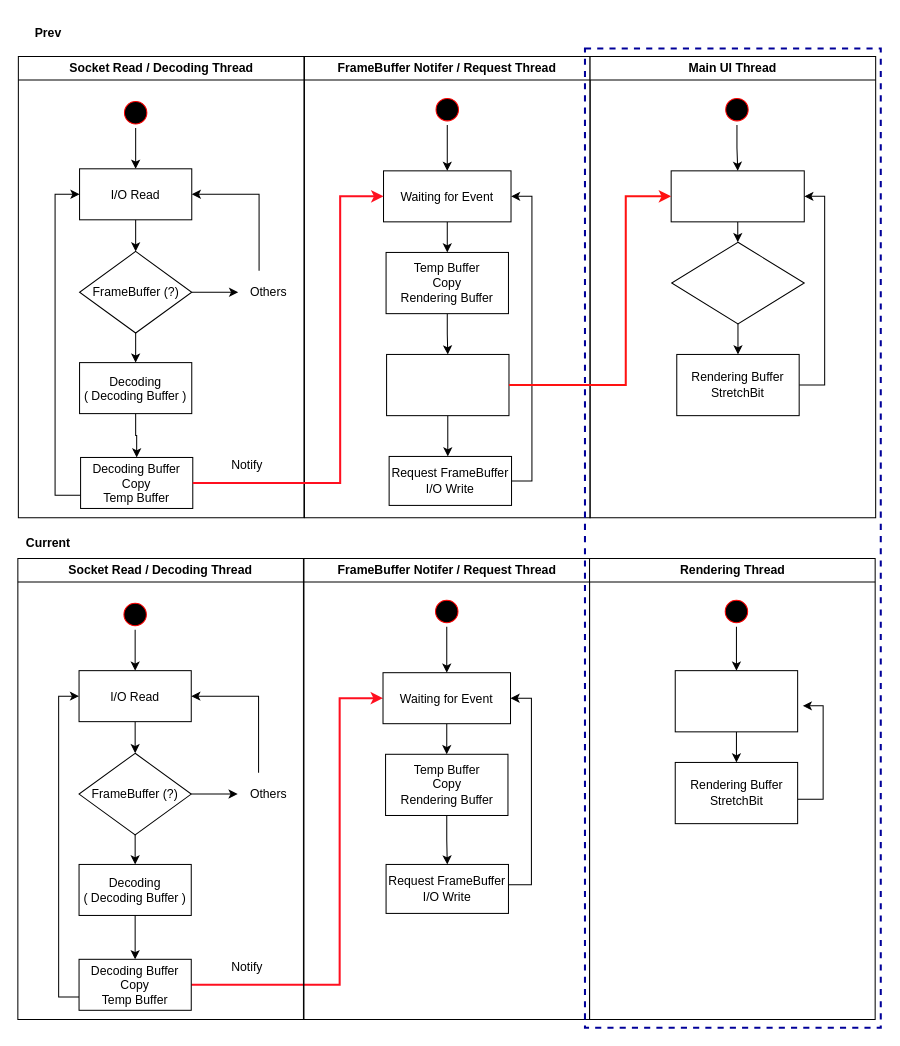
This 900x1046 diagram has some shape labels left out. The centre of each missing label's shape, as x and y in pixels:
"Checking HWND Aspect Ratio" belongs at [736,701].
"GetMessage" belongs at [737,196].
"SendMessage" belongs at [447,384].
"WM_PAINT" belongs at [737,282].
